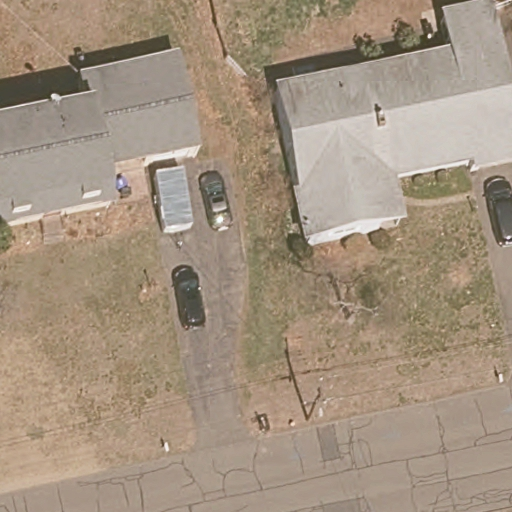DT: (305, 386, 326, 421)
